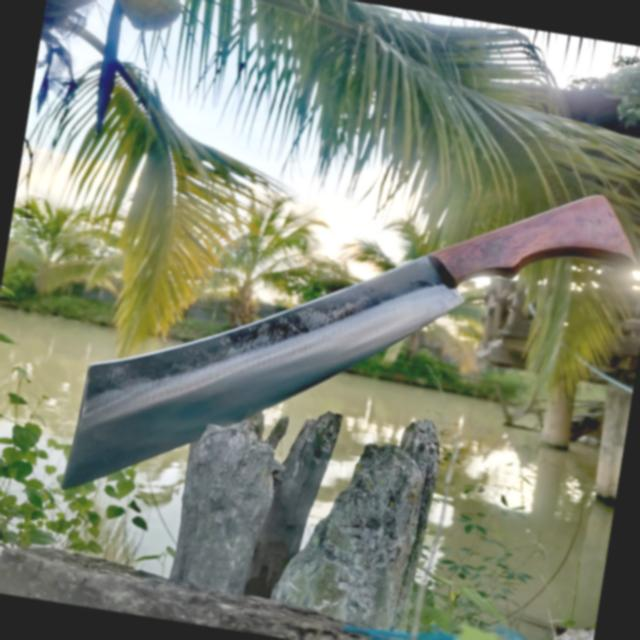eto: (52, 189, 640, 502)
